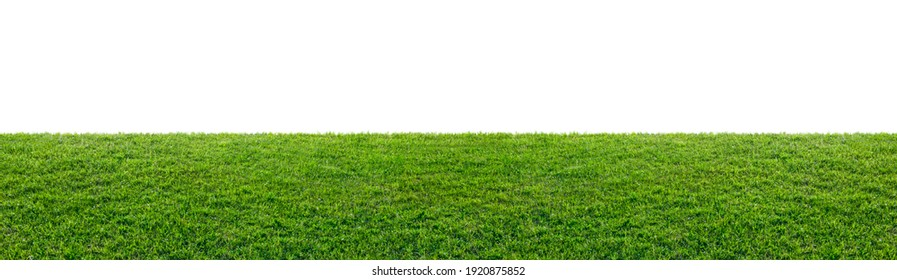grass: (3, 135, 885, 254)
